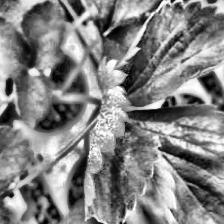Powdery Mildew Leaf: (83, 55, 161, 224)
